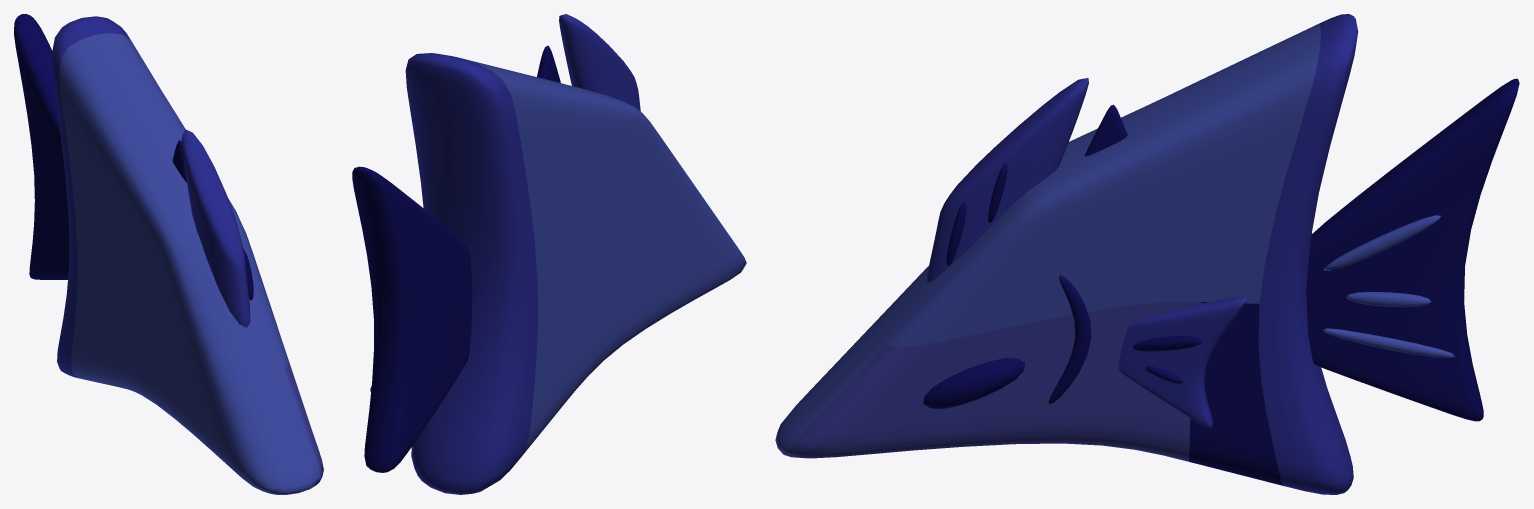
Rendered from FishV2.fbx.
3 renders of one model, left to right at view 1: azimuth 30°, elevation 25°; view 2: azimuth 150°, elevation 25°; view 3: azimuth 270°, elevation 25°, orthographic. The views are drawn at different scales.
Visible parts, largest first — view 1: Cube.033; view 2: Cube.033; view 3: Cube.033.
Boxes of the visible parts, x1=… form: Cube.033: x1=14, y1=14, x2=323, y2=494; Cube.033: x1=352, y1=14, x2=746, y2=494; Cube.033: x1=775, y1=14, x2=1519, y2=494.
Bounding box in the file's own units: 80.16 × 266 × 387.
